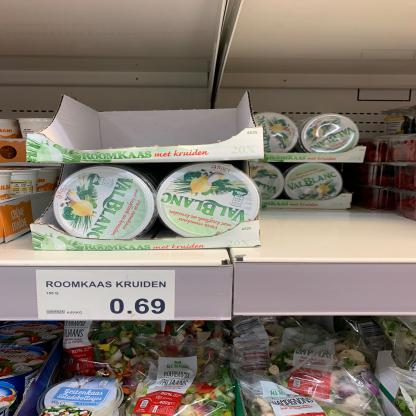prtg: (37, 271, 177, 321)
